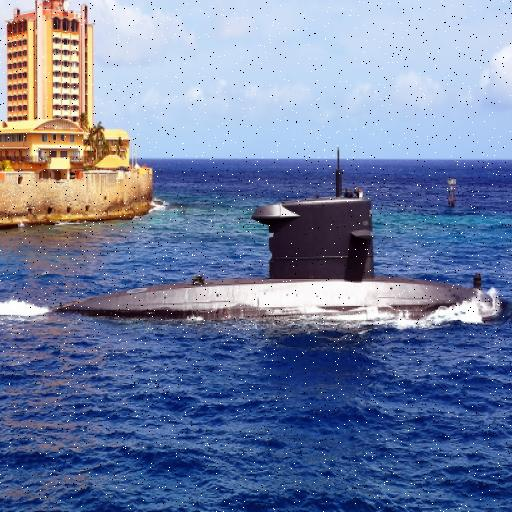submarine: (1, 139, 512, 321)
